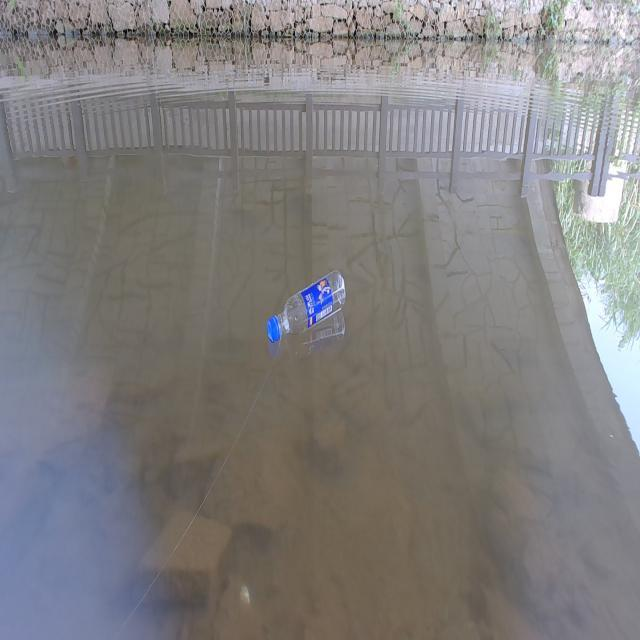bottle: (246, 244, 362, 360)
